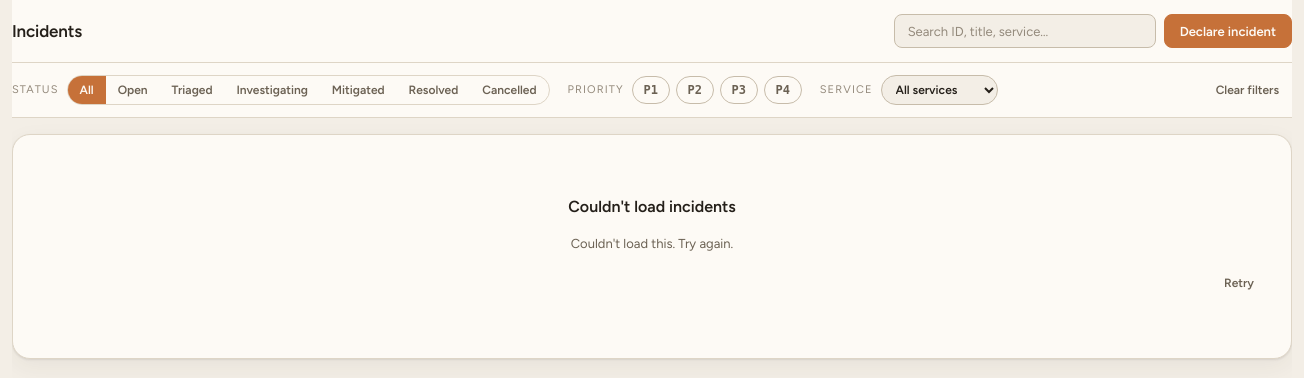
Test: IncidentsPage › shows the error state with a working retry
Expected: the text "Couldn't load incidents" is shown, 568,195 -> 736,220
Click the button "Retry".
click(1239, 283)  # box 1211,268 -> 1267,298
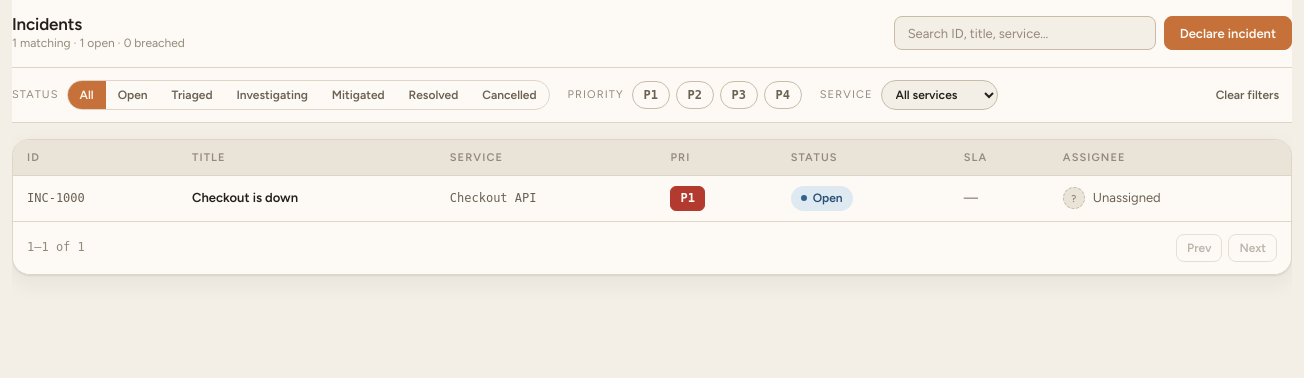
Expected: the text "Checkout is down" is shown, 178,176 -> 436,221
